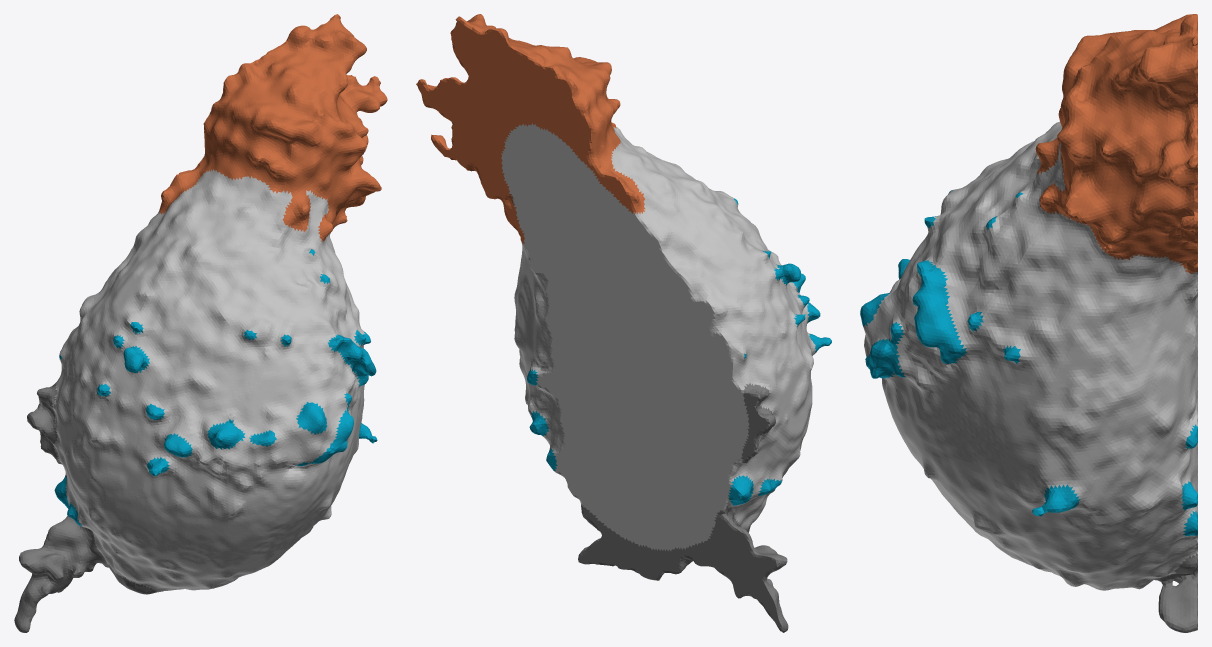
3 views of the same model, side by side, from view 1: azimuth 30°, elevation 25°; view 2: azimuth 150°, elevation 25°; view 3: azimuth 270°, elevation 25° (orthographic). The views are drawn at different scales.
Size of the model in its own units: 116 by 163 by 71.29.
